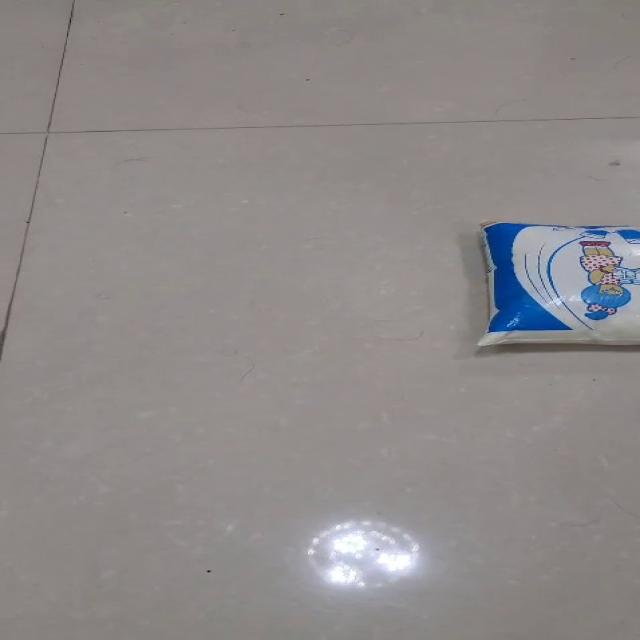plastic: (475, 219, 639, 347)
